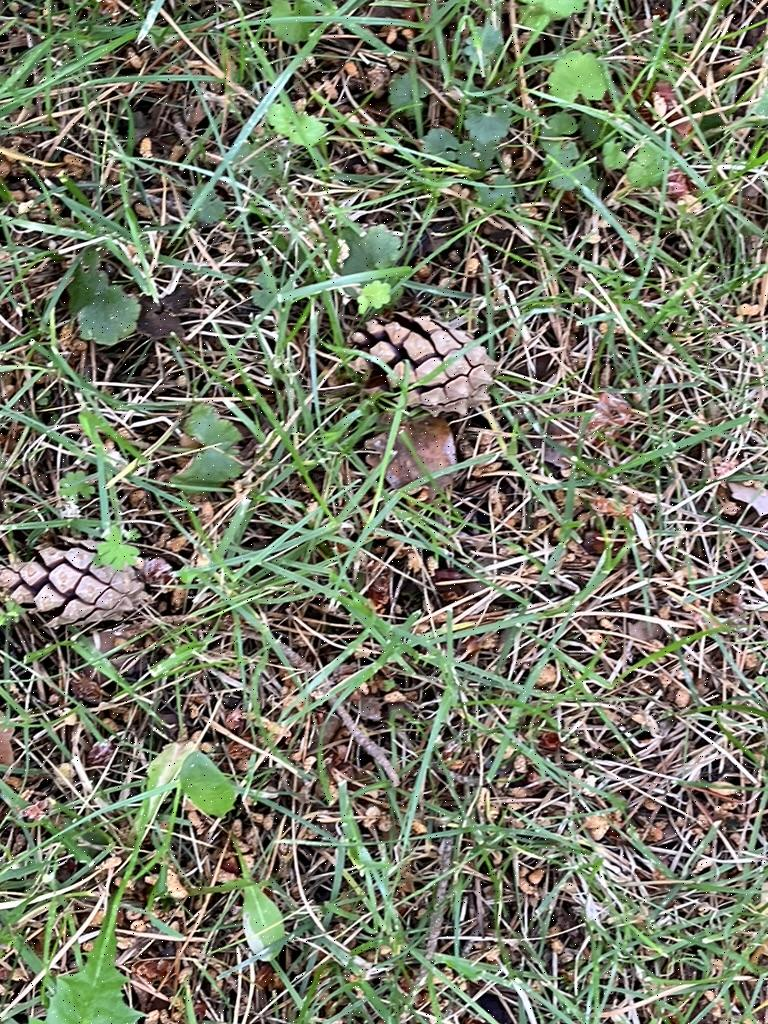pine: (343, 300, 496, 420), (0, 535, 166, 633)
